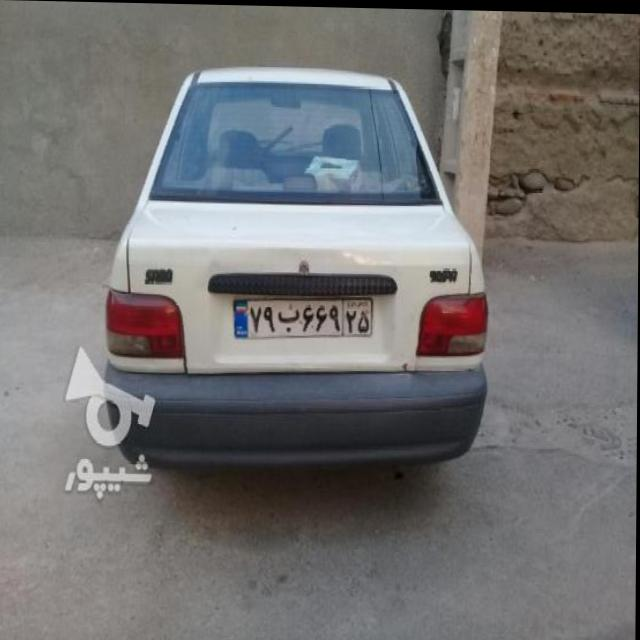licence: (231, 298, 371, 336)
